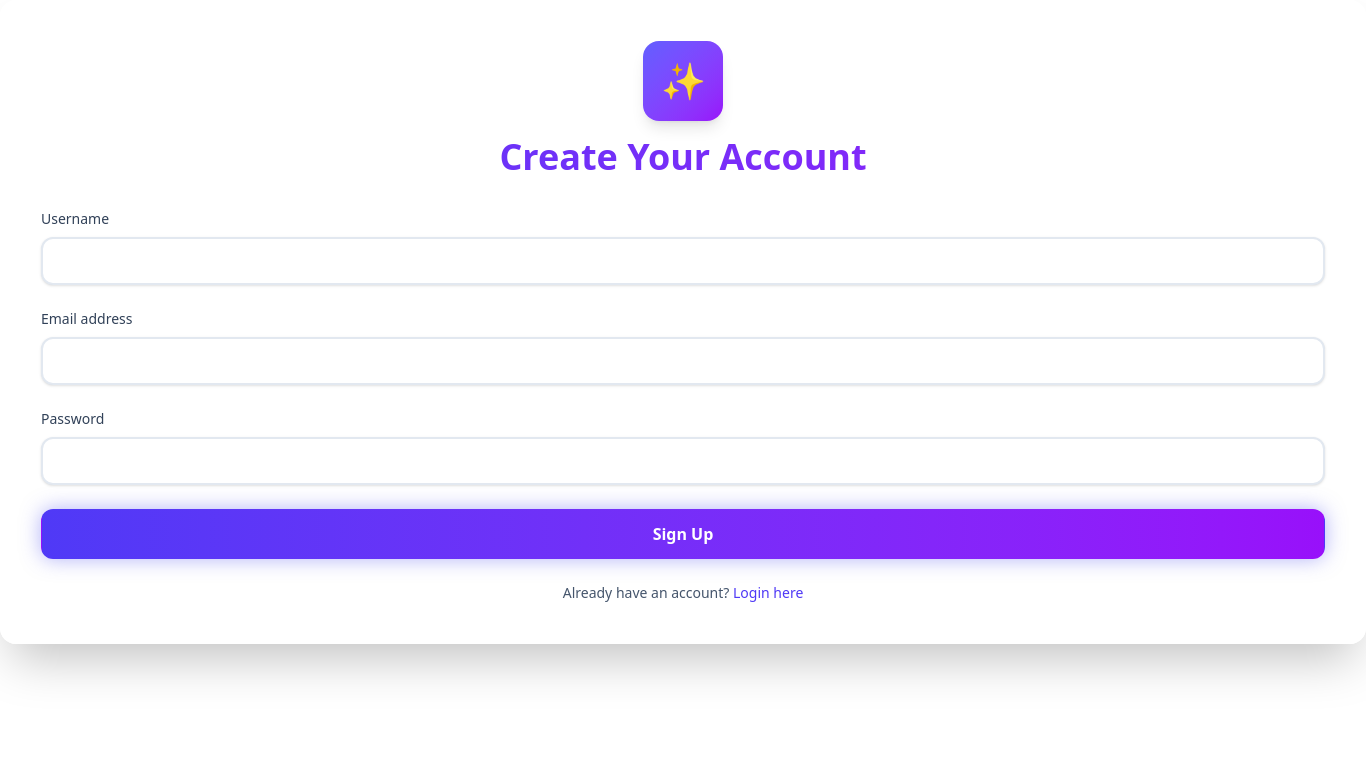
it: AuthForm › register mode › should show loading state during submission
Type "testuser" into the field named "username" at (683, 261), box [41,237,1325,285]
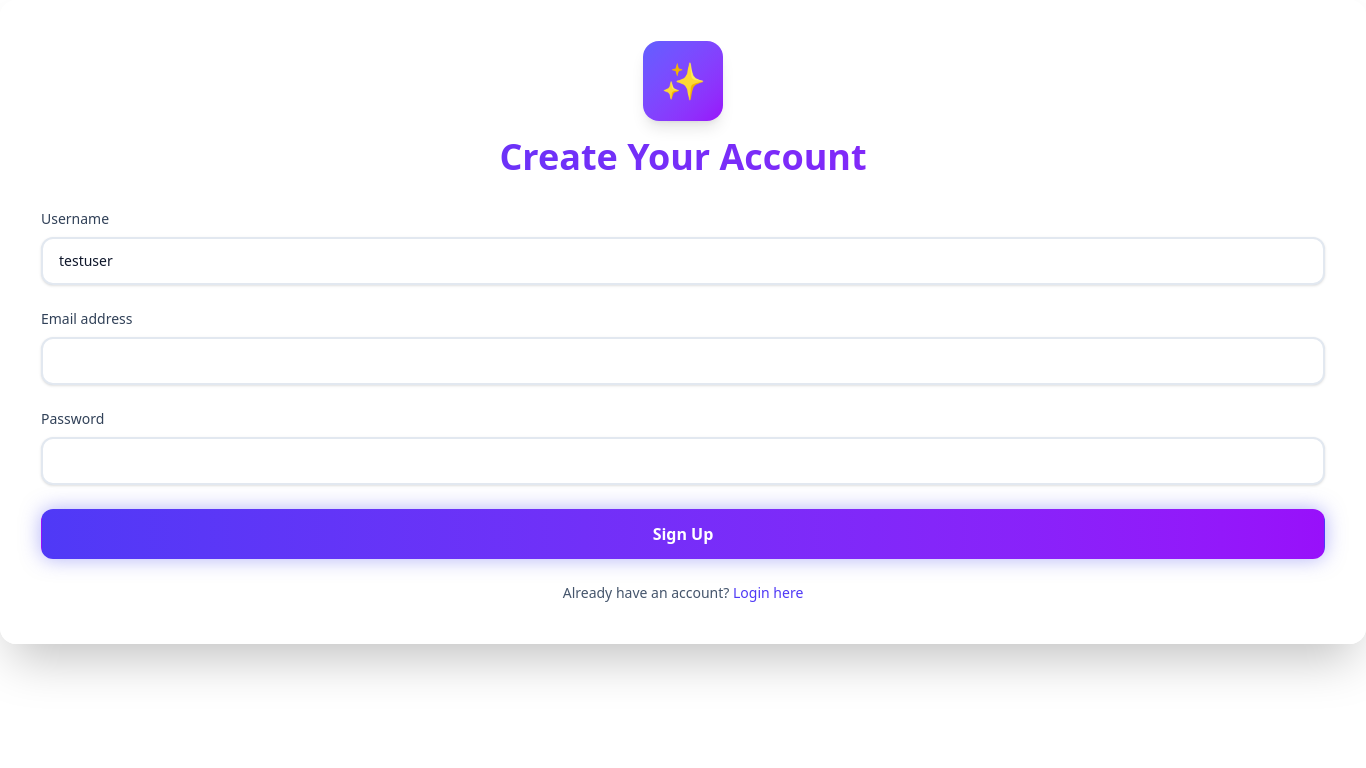
Type "test@example.com" into the field labelled "Email address" at (683, 361), box [41,337,1325,385]
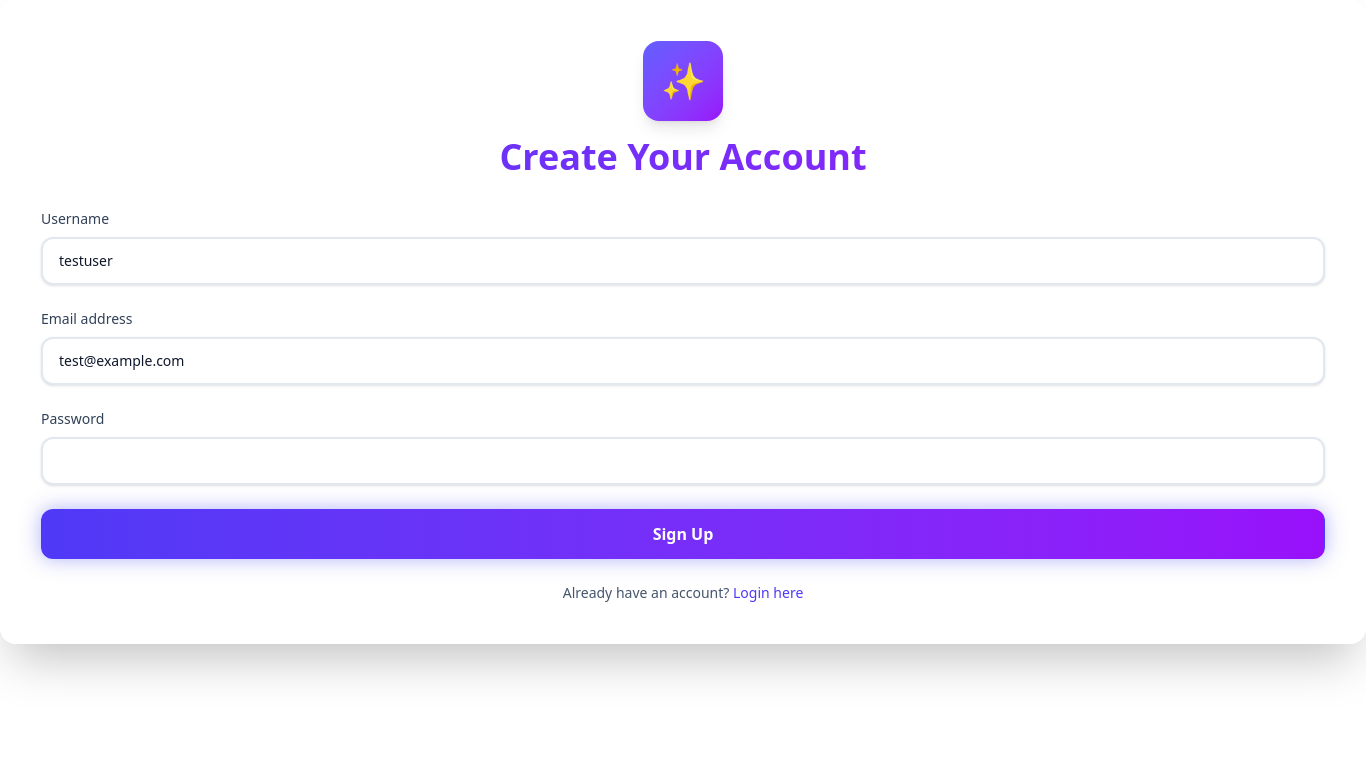
Type "password123" into the password field labelled "Password" at (683, 461), box [41,437,1325,485]
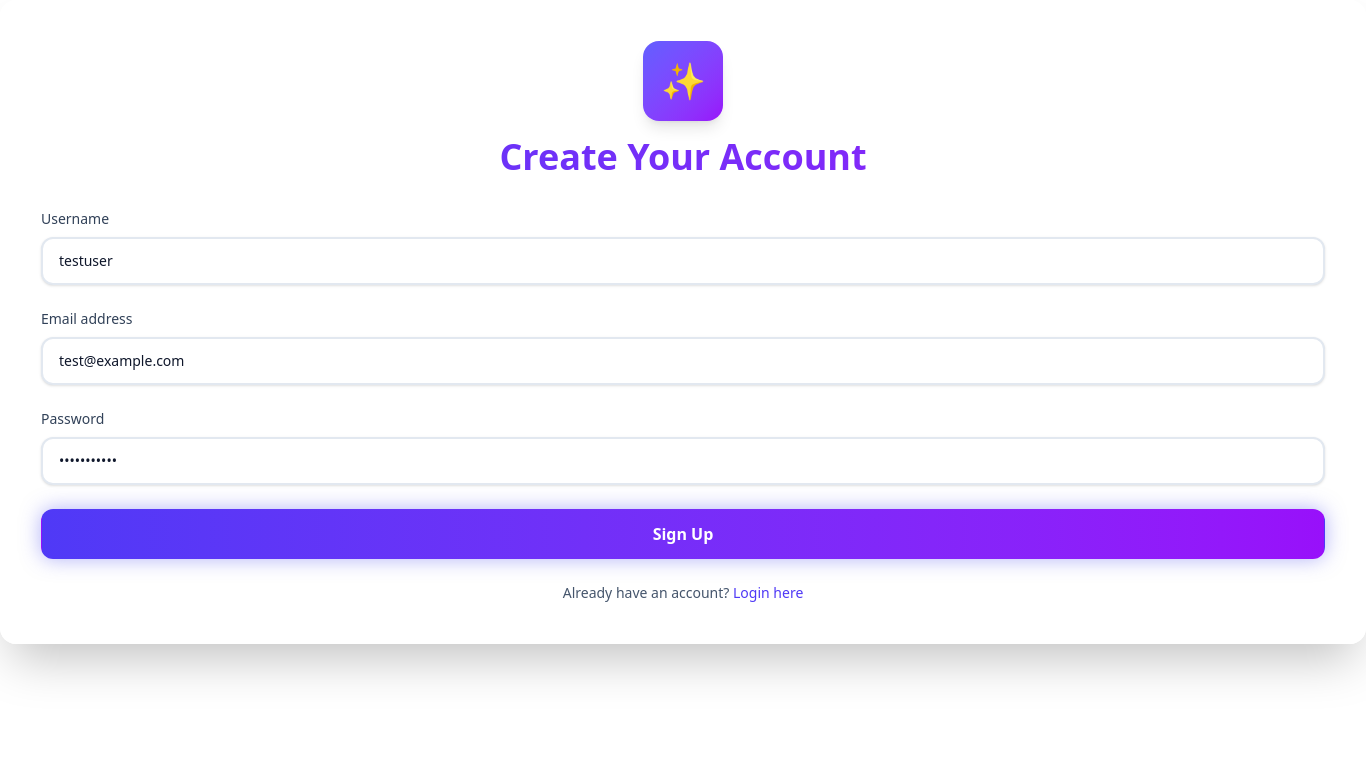
Submit the form, box [41,209,1325,603]
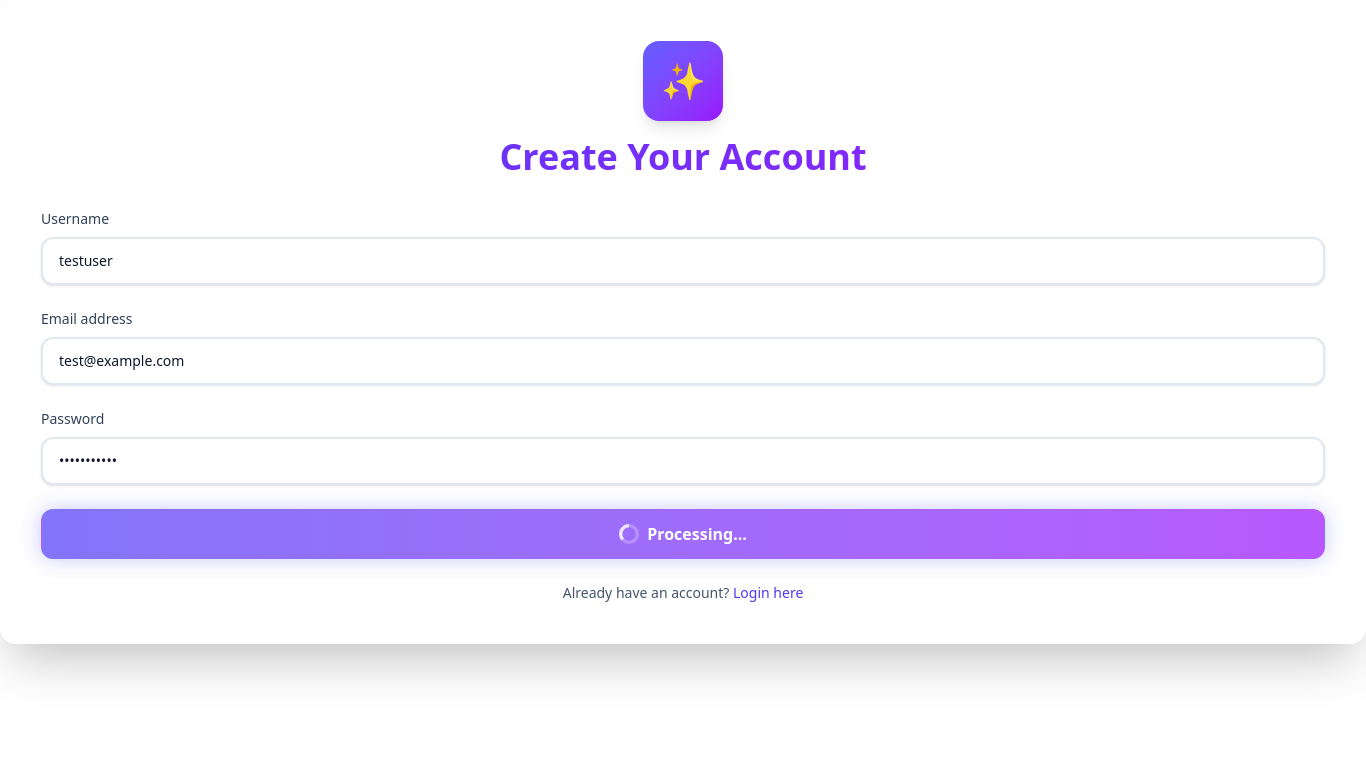
Check: the text "Processing..." is shown, box [619,522,747,546]
Check: the submit button is disabled, box [41,509,1325,559]
